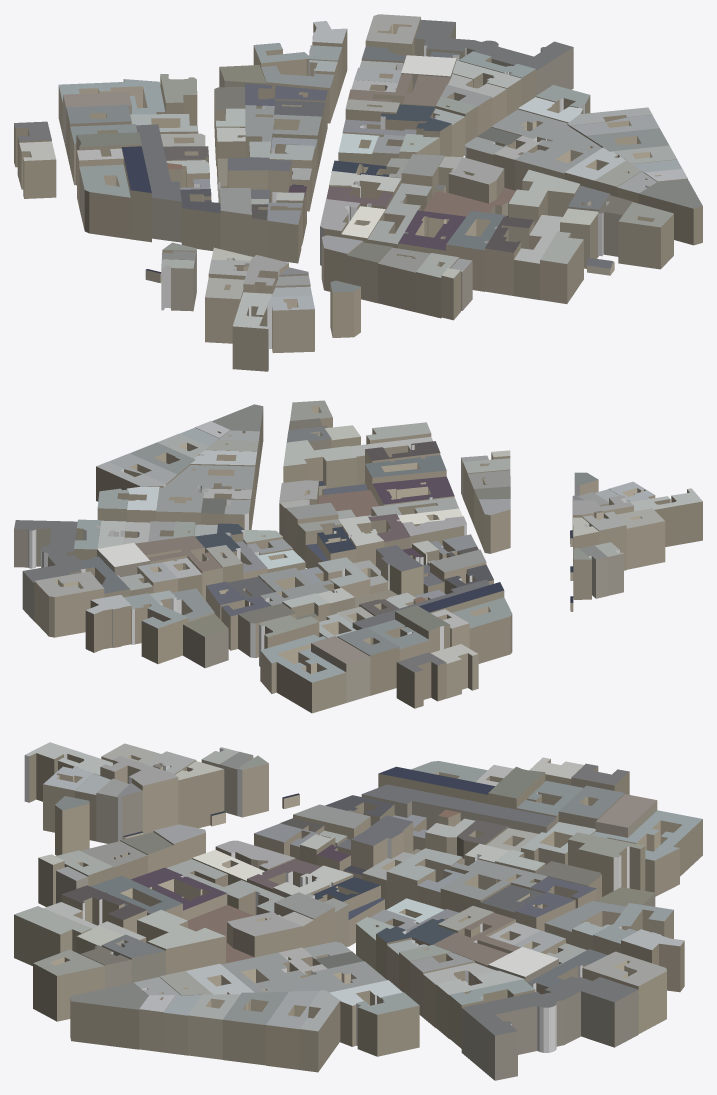
3 renders of one model, top to bottom at view 1: azimuth 30°, elevation 25°; view 2: azimuth 150°, elevation 25°; view 3: azimuth 270°, elevation 25°, orthographic. The views are drawn at different scales.
Visible parts, largest first — view 1: tuile; view 2: tuile; view 3: tuile.
Part boxes in pixels (box(x1,y1,x2,y2)): tuile: box(14, 14, 702, 371); tuile: box(14, 400, 702, 713); tuile: box(14, 742, 702, 1080).
Size of the model in its own units: 283 by 26.98 by 284.
